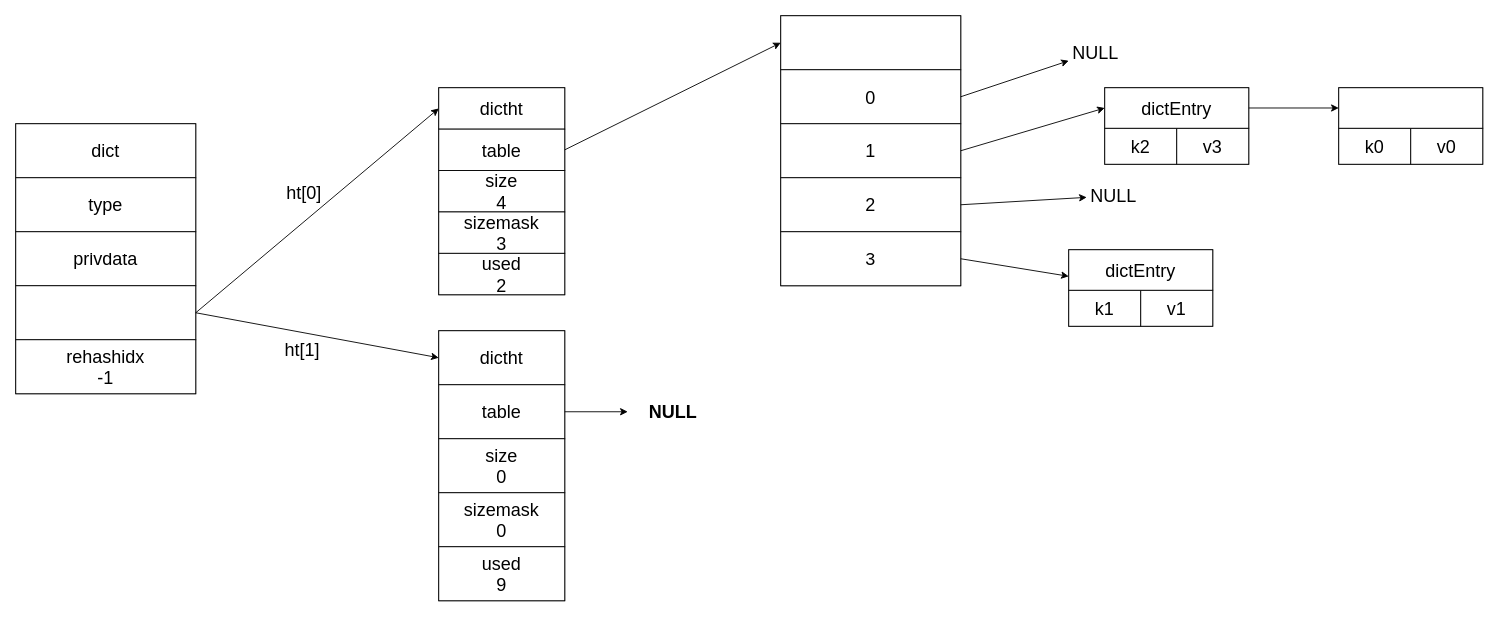
Some shapes in this 1499 by 624 pixel diagram are drawn without their labels. Here are the shapes that lost their labels. From the top down, the box of each, then its label:
(780, 15, 961, 70): dictEntry* [4]
(1338, 87, 1483, 128): dictENnrty
(15, 285, 196, 340): ht
